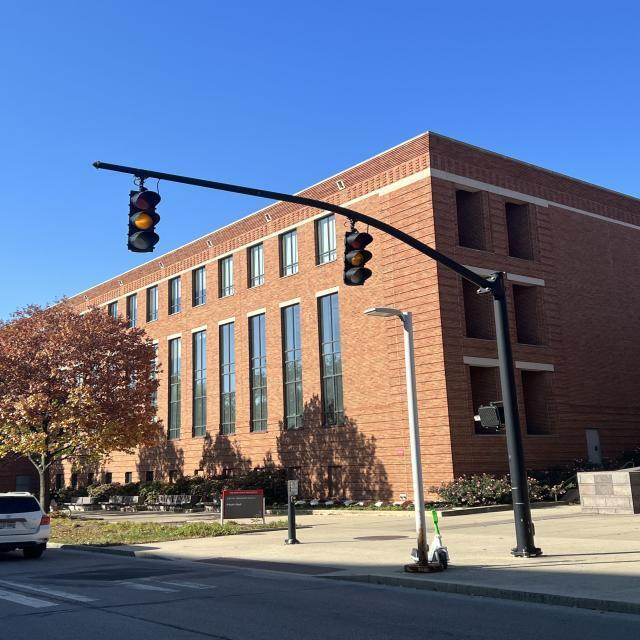yellow_light: (123, 177, 165, 257), (340, 228, 377, 292)
